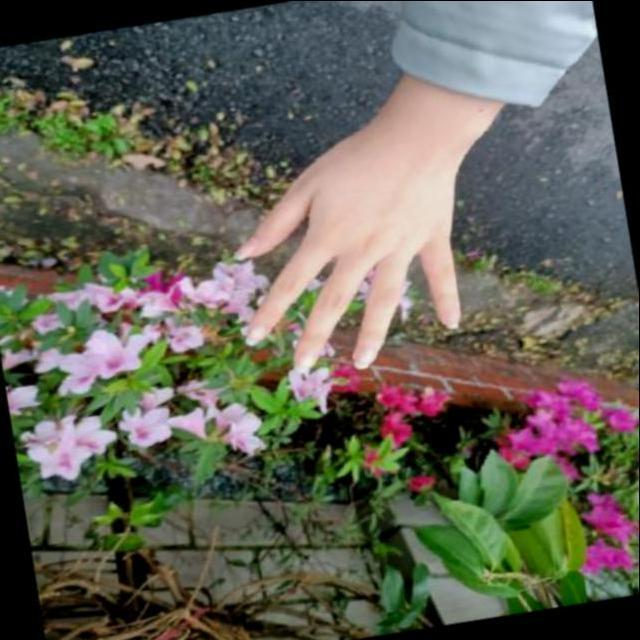hand: (193, 88, 508, 394)
